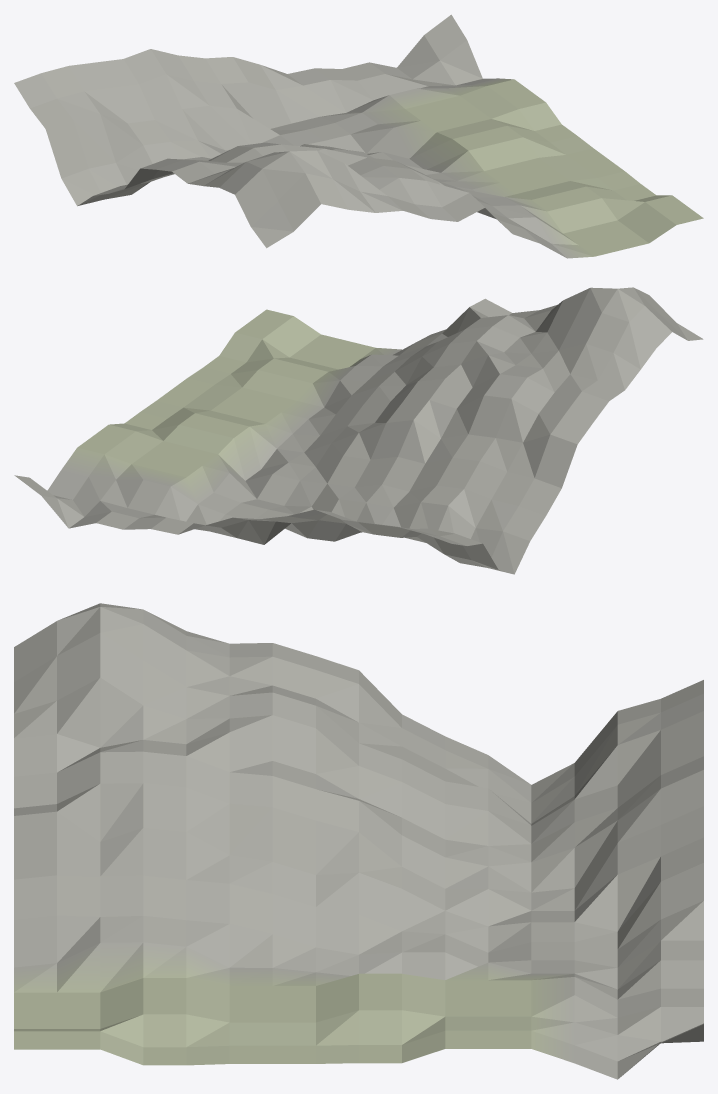
The picture shows the model from 3 angles, top to bottom: view 1: azimuth 30°, elevation 25°; view 2: azimuth 150°, elevation 25°; view 3: azimuth 270°, elevation 25°; orthographic projection. The views are drawn at different scales.
Size of the model in its own units: 32 by 11.19 by 32.
